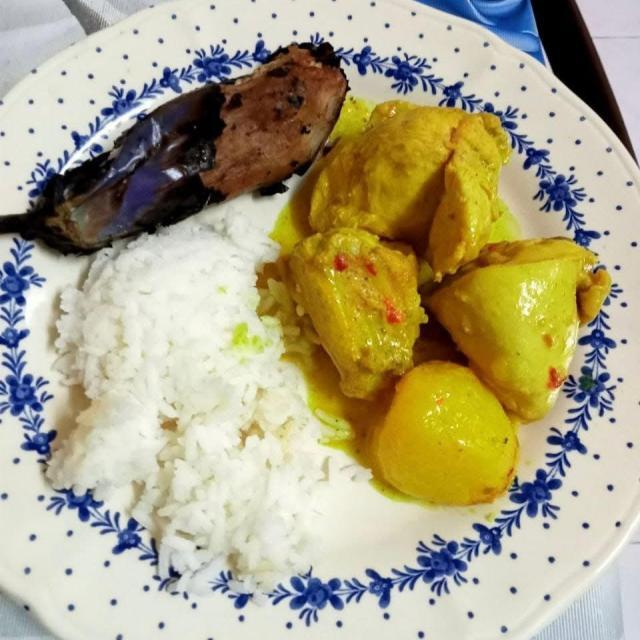Chicken: (283, 99, 614, 423)
Plate: (0, 0, 639, 639)
Rice: (39, 193, 340, 584)
Vegetables: (1, 41, 351, 250), (368, 363, 523, 506)
